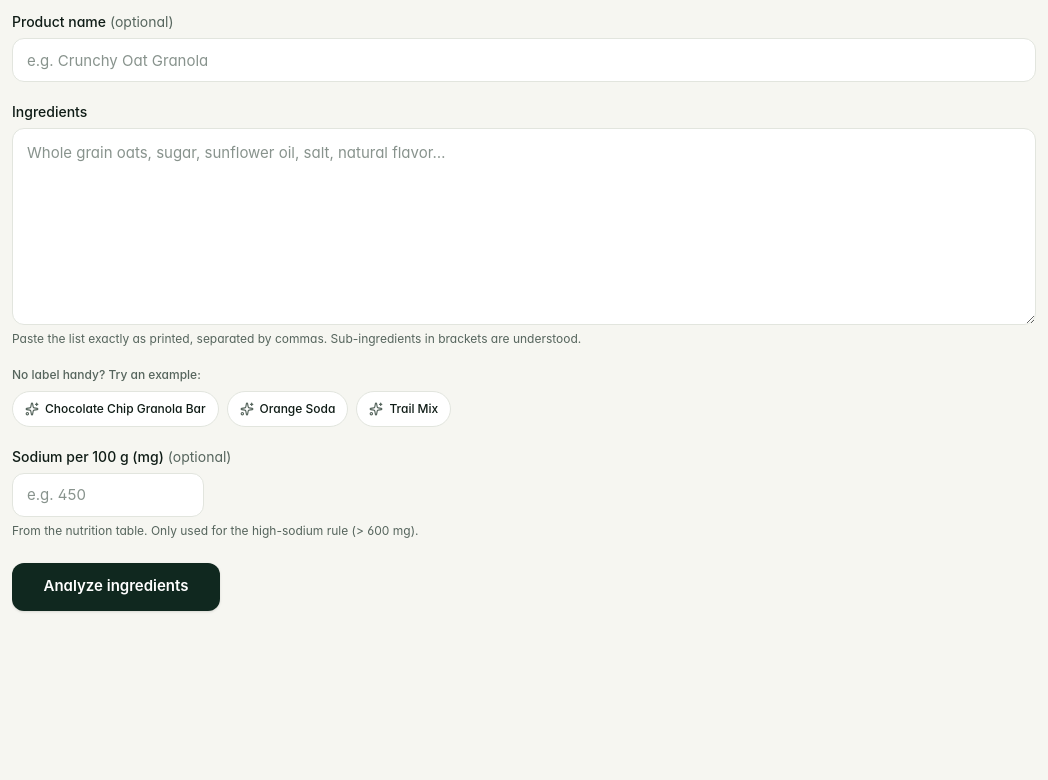
AnalyzeForm › shows a recoverable error when the network fails
The width and height of the screenshot is (1048, 780).
In the text box labelled "Ingredients": (524, 226) x1=12 y1=128 x2=1036 y2=325, type "oats, salt"
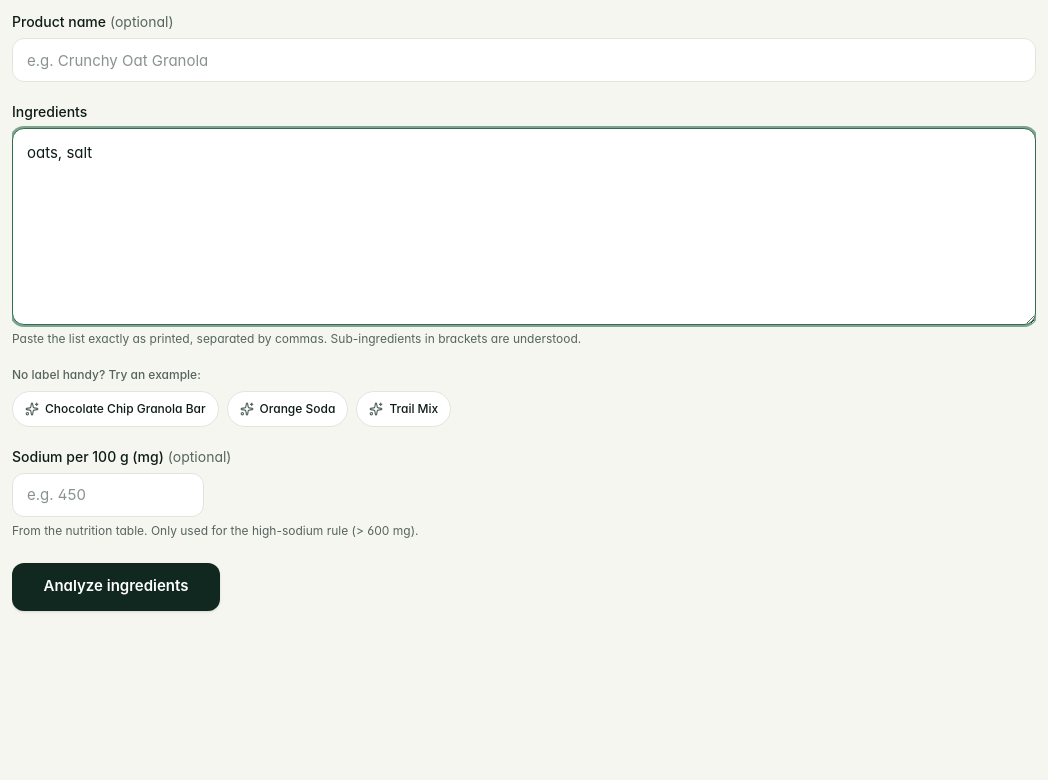
Click the button "Analyze ingredients": (116, 587) x1=12 y1=563 x2=220 y2=611
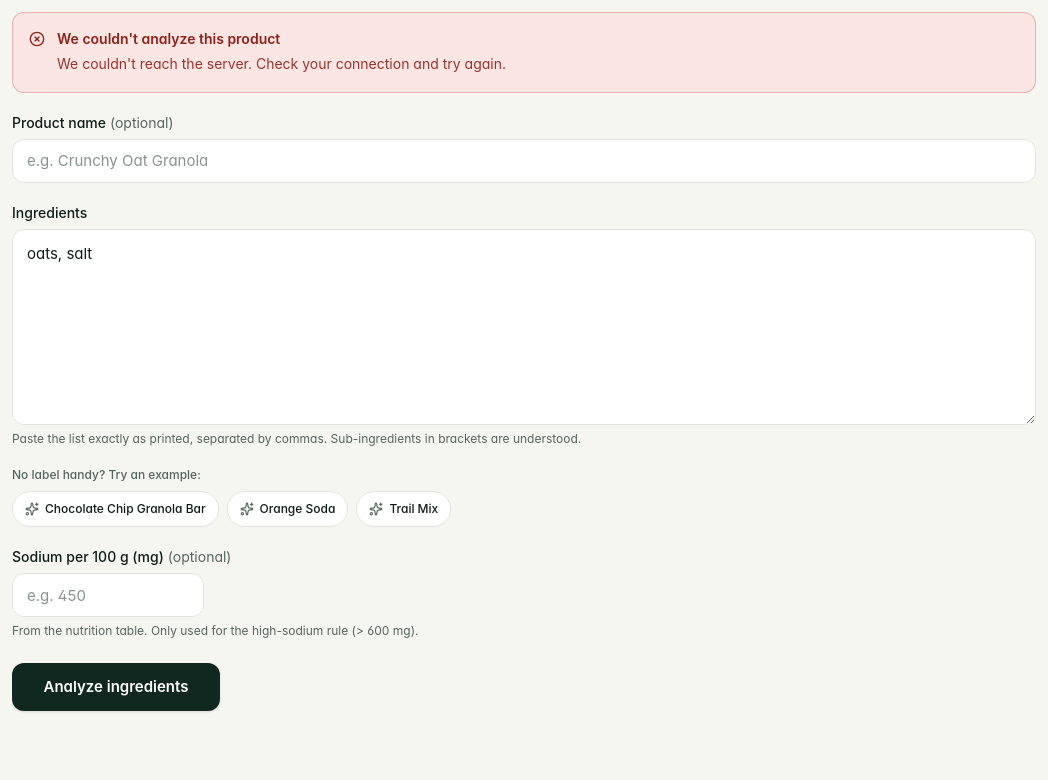
Expected: the button "Analyze ingredients" is enabled, x1=12 y1=663 x2=220 y2=711
Result: the message shows "couldn't reach the server" at x1=57 y1=55 x2=506 y2=72
